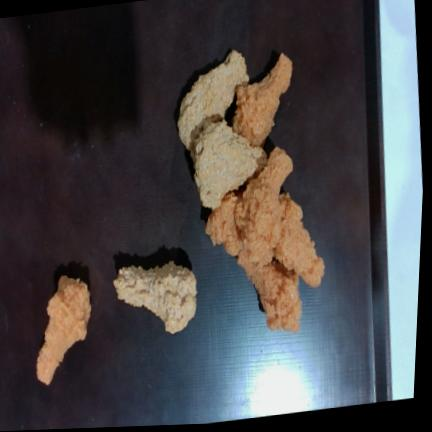chicken: (178, 50, 249, 150), (193, 121, 266, 210), (236, 147, 293, 258), (114, 261, 197, 333), (37, 275, 91, 384), (233, 53, 292, 146), (238, 255, 302, 332), (275, 194, 324, 287), (275, 197, 324, 287), (206, 192, 242, 255)
